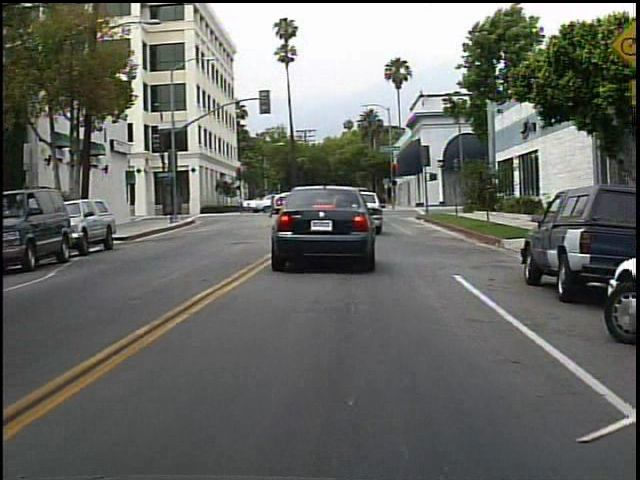person: (266, 187, 292, 222)
